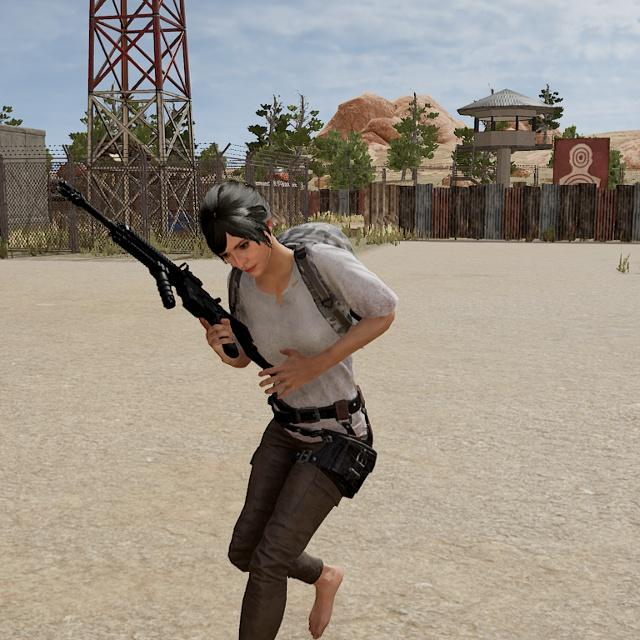head: (189, 173, 295, 285)
people: (180, 165, 408, 640)
